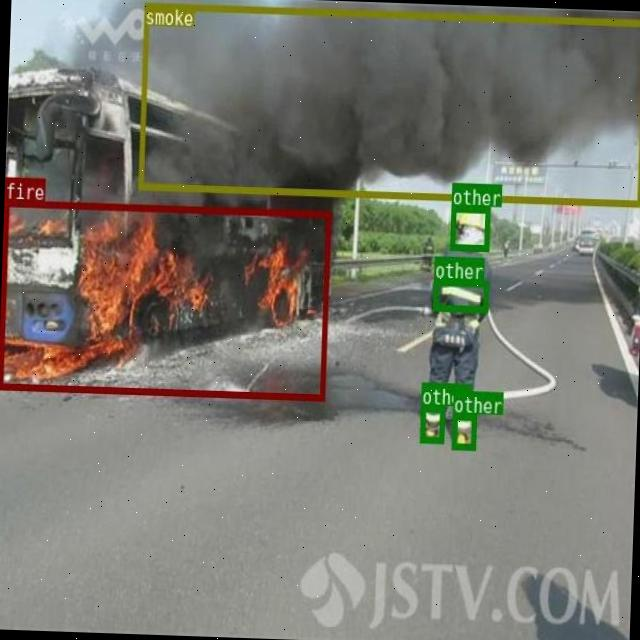fire: (0, 199, 328, 399)
smoke: (136, 2, 640, 205)
